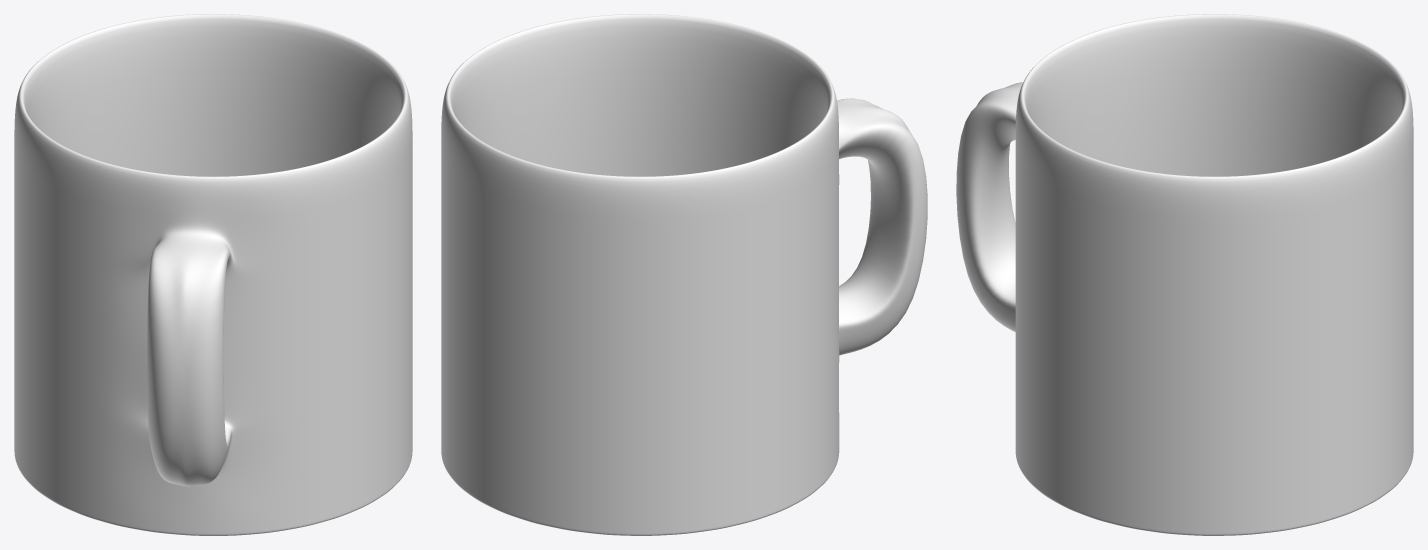
File: Cup.obj
3 renders of one model, left to right at view 1: azimuth 30°, elevation 25°; view 2: azimuth 150°, elevation 25°; view 3: azimuth 270°, elevation 25°, orthographic.
Visible parts, largest first — view 1: tea_mug; view 2: tea_mug; view 3: tea_mug.
Boxes of the visible parts, bbox=[...] form: tea_mug: bbox=[14, 14, 412, 535]; tea_mug: bbox=[441, 14, 927, 535]; tea_mug: bbox=[956, 14, 1413, 535].
Size of the model in its own units: 1.99 by 1.97 by 2.28.
